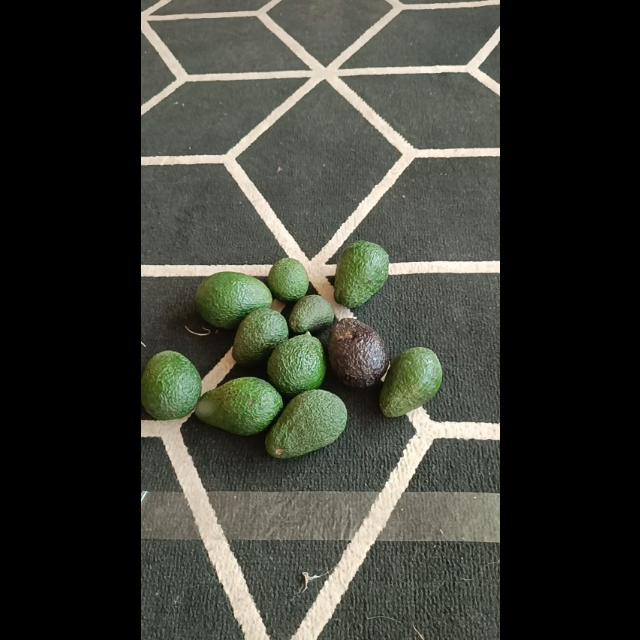Primera: (266, 388, 346, 456), (194, 376, 282, 436), (378, 346, 442, 418), (326, 316, 388, 388), (193, 271, 269, 327), (140, 350, 200, 420), (332, 239, 390, 307), (266, 332, 326, 396)
Segunda: (231, 306, 287, 366), (266, 257, 308, 301)
Tercera: (288, 294, 334, 334)
